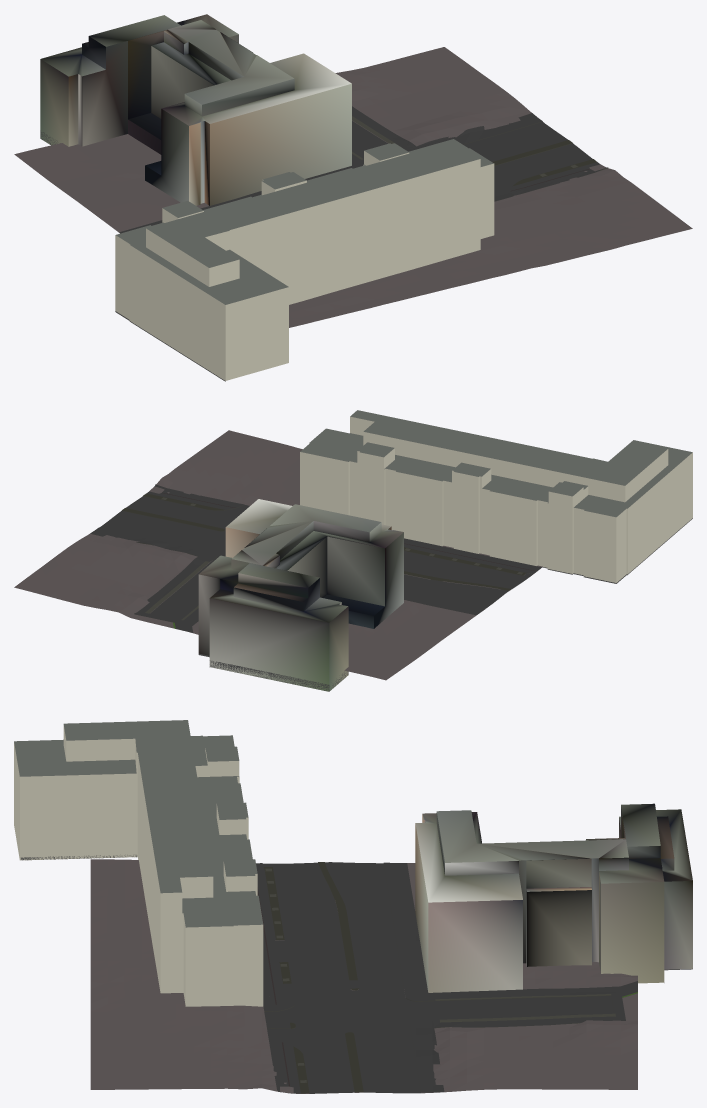
The picture shows the model from 3 angles, top to bottom: view 1: azimuth 30°, elevation 25°; view 2: azimuth 150°, elevation 25°; view 3: azimuth 270°, elevation 25°; orthographic projection. The views are drawn at different scales.
Parts seen in each view (by area): view 1: c_m19_p04; view 2: c_m19_p04; view 3: c_m19_p04.
Part boxes in pixels (x1=…): c_m19_p04: x1=14, y1=14, x2=692, y2=381; c_m19_p04: x1=14, y1=410, x2=692, y2=691; c_m19_p04: x1=14, y1=720, x2=692, y2=1093.
Size of the model in its own units: 153 by 29.81 by 159.
